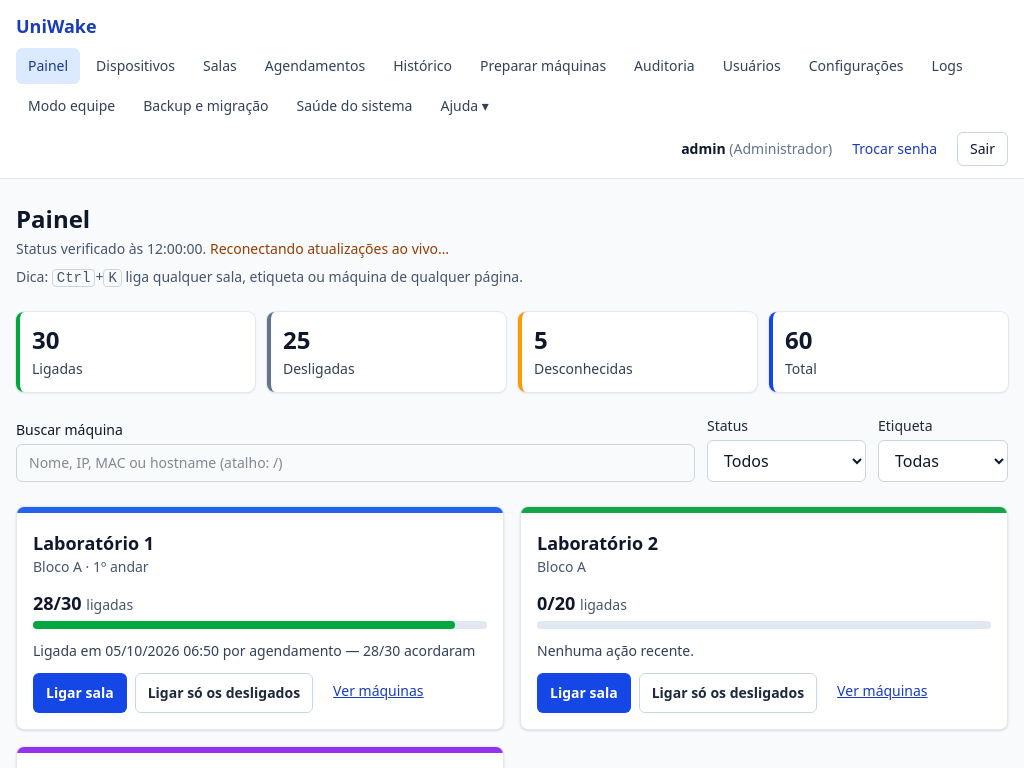
Test case: dashboard (FR-004.5) › "/" typed inside a field is just text
This screenshot has width=1024, height=768.
Click the search field labelled "Buscar máquina". click: (356, 463)
box: [16,444,695,482]
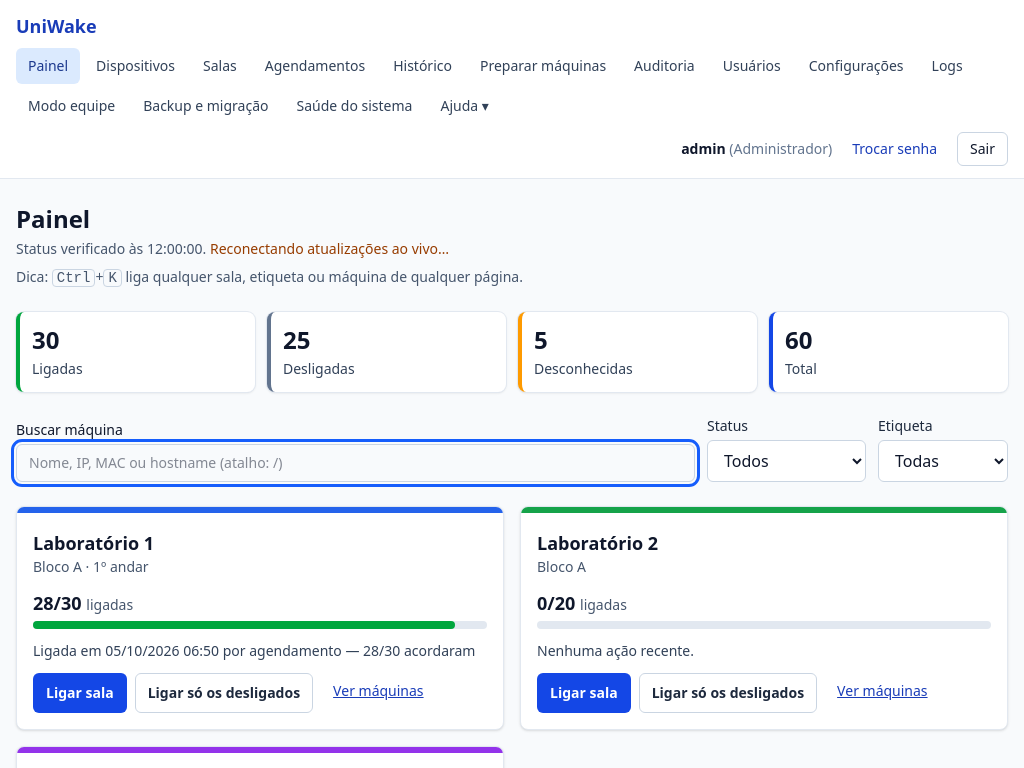
Type keys "a/b"
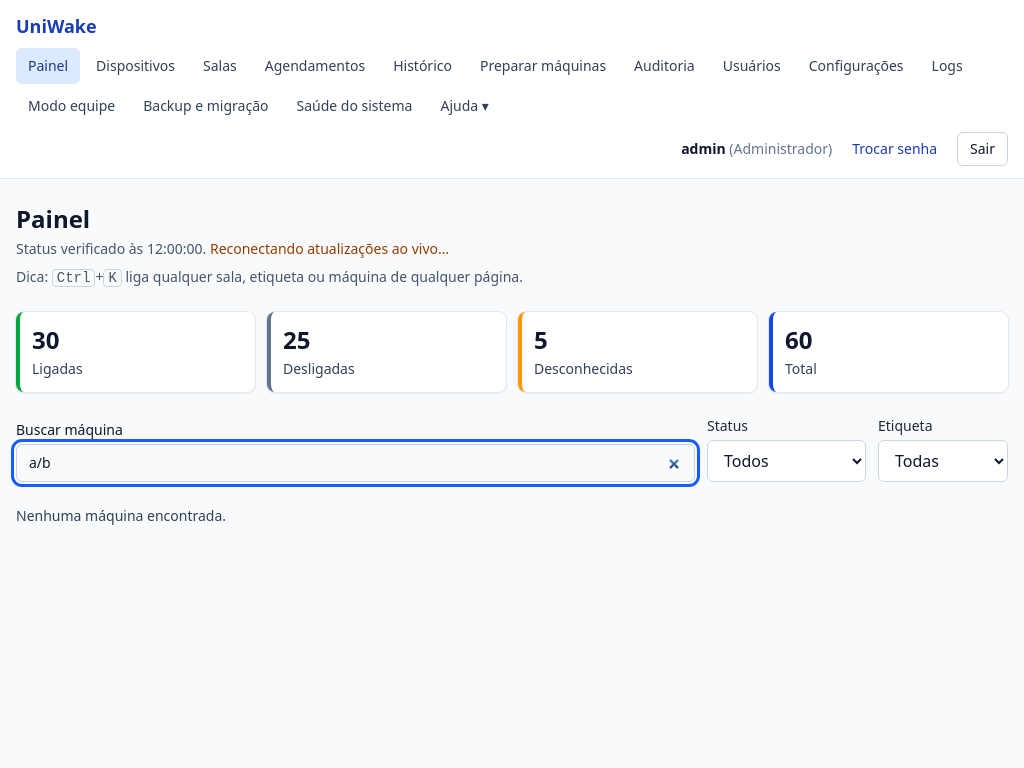
Check: the search field labelled "Buscar máquina" holds "a/b", box [16,444,695,482]
